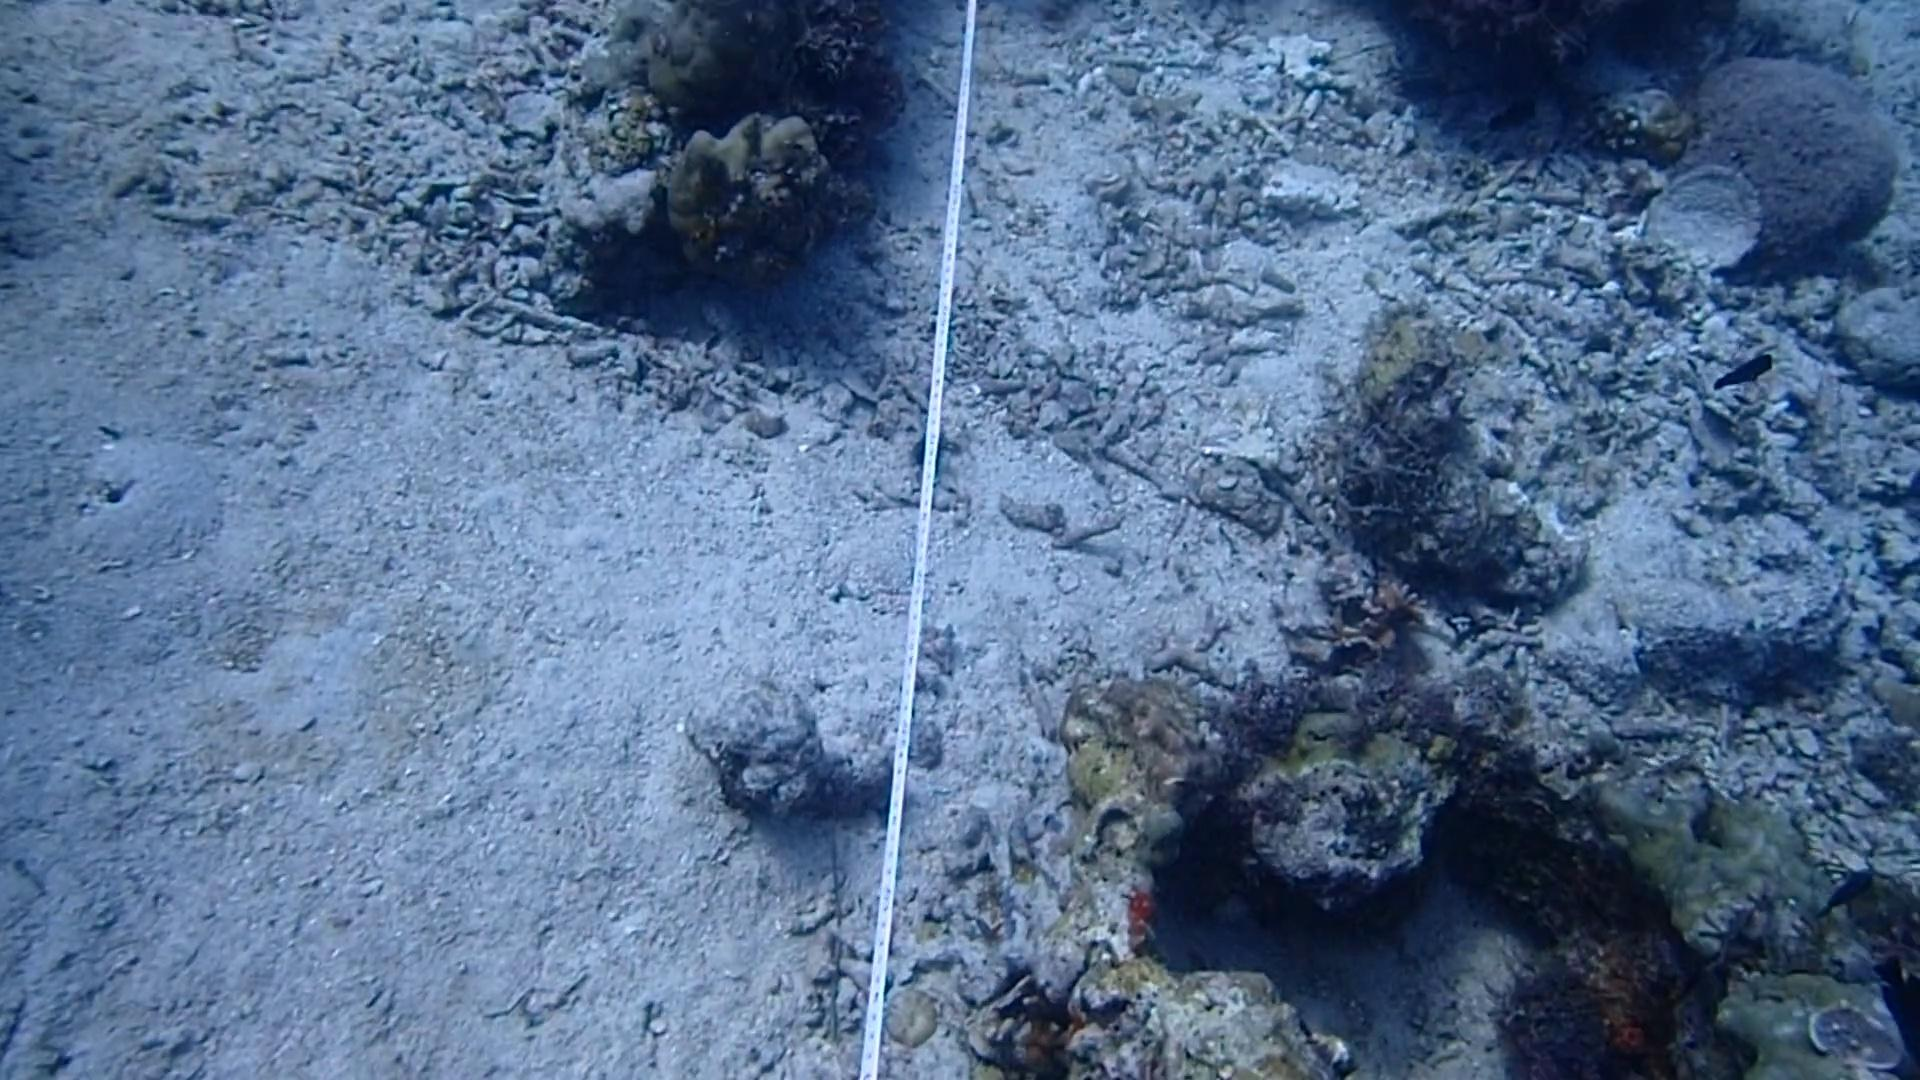Dark Fish: (1869, 942, 1920, 1069), (1708, 339, 1783, 405), (1476, 87, 1548, 144)
